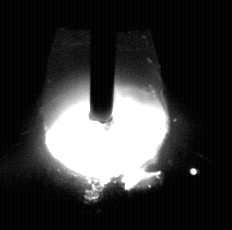arame: (91, 0, 114, 123)
poca: (45, 0, 168, 230)
